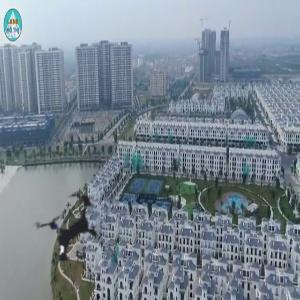drone: (7, 167, 132, 292)
